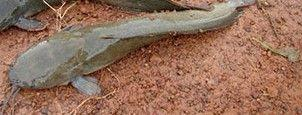Catfish: (9, 0, 256, 101)
